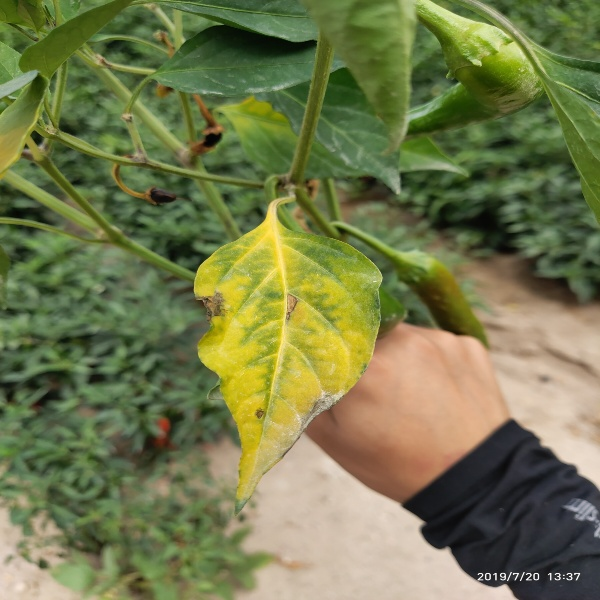blight: (413, 260, 480, 336), (111, 164, 179, 209), (186, 94, 223, 156)
